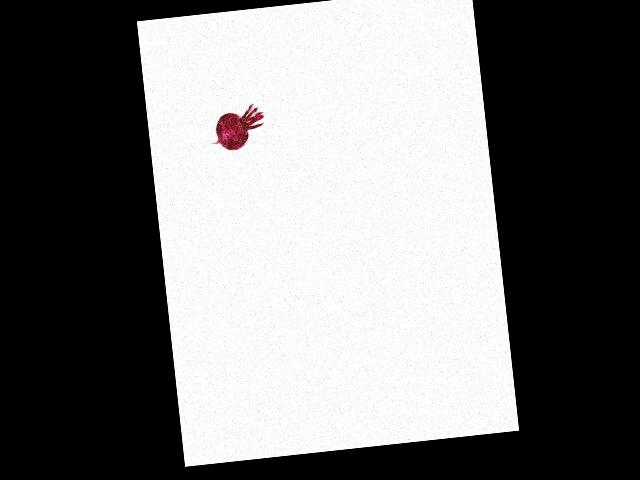beet: (206, 102, 266, 152)
